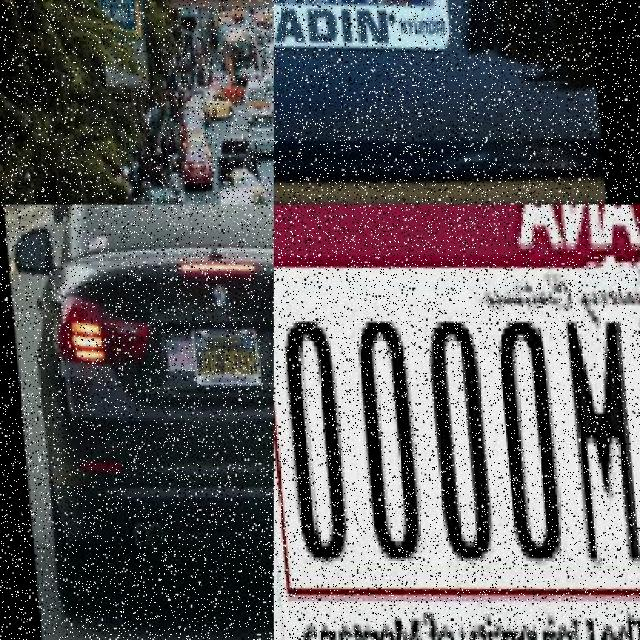licenseplate: (280, 265, 640, 606), (274, 0, 441, 143), (193, 314, 261, 383), (254, 188, 260, 198), (193, 161, 201, 168)
